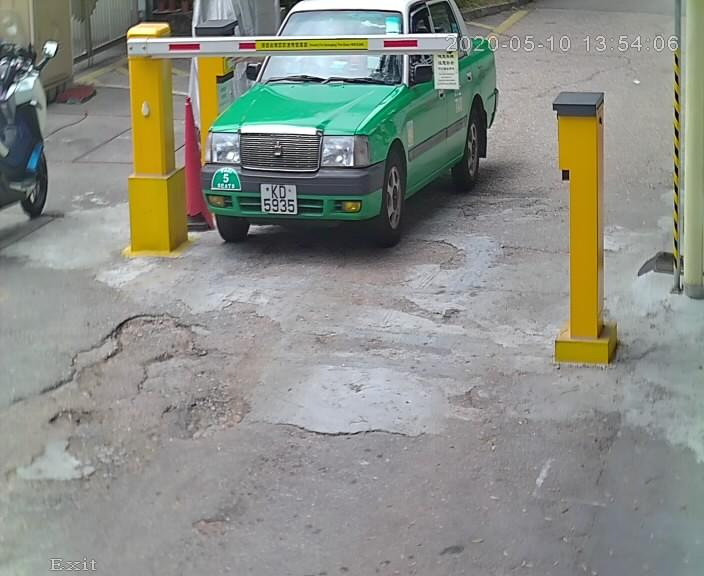Car: (200, 1, 510, 254)
License Plate: (255, 176, 303, 221)
